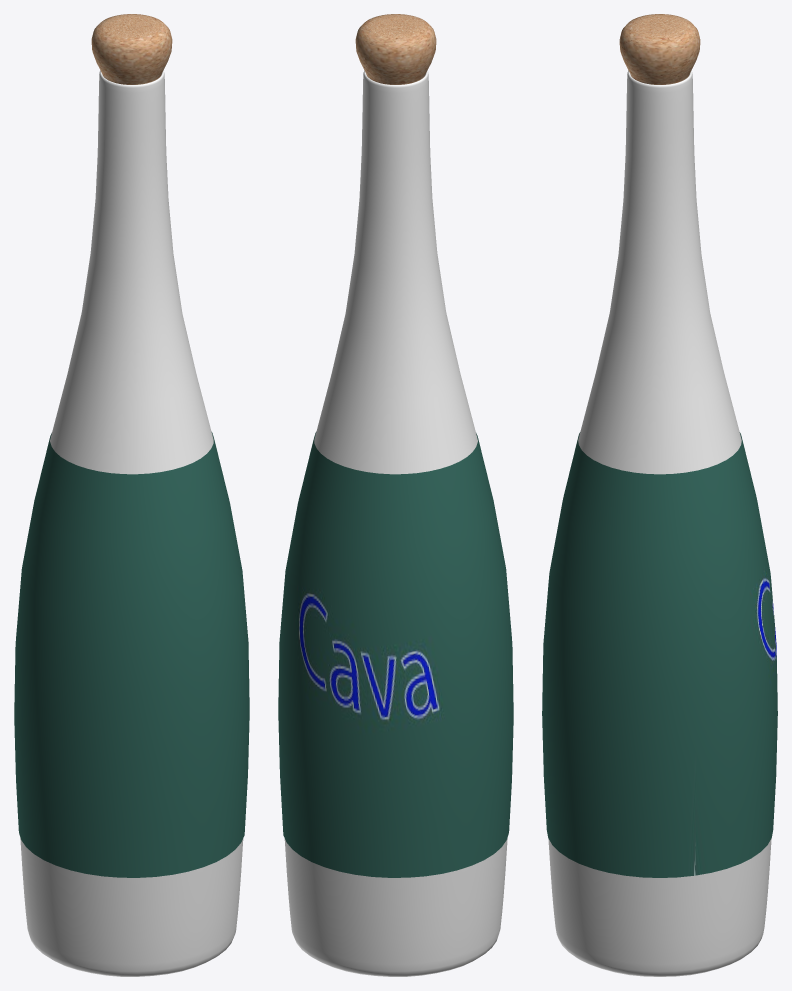
File: Cava.fbx
3 views of the same model, side by side, from view 1: azimuth 30°, elevation 25°; view 2: azimuth 150°, elevation 25°; view 3: azimuth 270°, elevation 25° (orthographic).
Parts seen in each view (by area): view 1: Label, Cava, Cork; view 2: Label, Cava, Cork; view 3: Label, Cava, Cork.
Boxes of the visible parts, box(x1,y1,x2,y2) form: Label: box(14, 432, 249, 877); Cava: box(20, 70, 243, 976); Cork: box(91, 14, 172, 84); Label: box(278, 432, 513, 877); Cava: box(284, 70, 507, 976); Cork: box(355, 14, 436, 84); Label: box(542, 432, 777, 877); Cava: box(548, 70, 771, 976); Cork: box(619, 14, 700, 84).
Size of the model in its own units: 0.2208 by 0.9433 by 0.2207.
